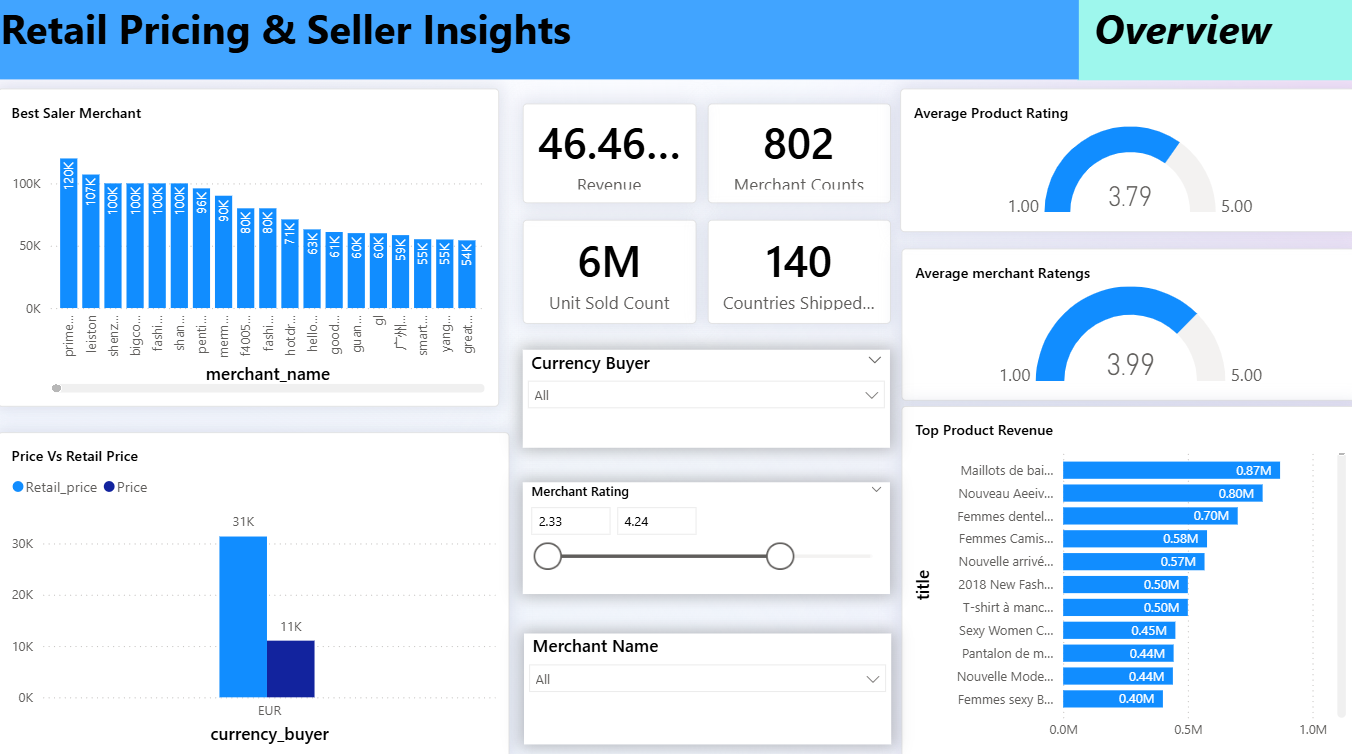

This screenshot's page, from the dashboard's own definition file:
{"tool":"powerbi","page":{"name":"Business Performance Summary","canvas":[1280,720],"ordinal":1},"visuals":[{"type":"card","fields":{"Values":["Count(insights_cleaned.merchant_id)"]},"box":[672.9,100,170,92.9],"z":0},{"type":"card","fields":{"Values":["Sum(insights_cleaned.total_units_sold)"]},"box":[501.4,208.6,161.4,97.1],"z":1000},{"type":"card","fields":{"Values":["Max(products_cleaned.countries_shipped_to)"]},"box":[672.9,208.6,170,97.1],"z":2000},{"type":"clusteredColumnChart","title":"Price Vs Retail Price","fields":{"Y":["Sum(products_cleaned.retail_price)","Sum(products_cleaned.price)"],"Category":["products_cleaned.currency_buyer"]},"box":[12.8,405.4,476.2,303.3],"z":3000},{"type":"card","fields":{"Values":["Sum(products_cleaned.Revenue)"]},"box":[501.4,100,161.4,92.9],"z":4000},{"type":"gauge","title":"Average merchant Ratengs","fields":{"Y":["Avg(insights_cleaned.rating)"],"MinValue":["insights_cleaned.Rating Min"],"MaxValue":["insights_cleaned.Rating Max"]},"box":[853.2,235.3,426.6,141.7],"z":5000},{"type":"clusteredColumnChart","title":"Best Saler Merchant","fields":{"Category":["products_cleaned.merchant_name"],"Y":["Sum(insights_cleaned.total_units_sold)"]},"box":[12.8,86.5,466.3,296.2],"z":6000},{"type":"gauge","title":"Average Product Rating","fields":{"Y":["Avg(products_cleaned.rating)"],"MaxValue":["insights_cleaned.Rating Max"],"MinValue":["insights_cleaned.Rating Min"]},"box":[851.8,86.5,428,133.2],"z":7000},{"type":"barChart","title":"Top Product Revenue","fields":{"Category":["products_cleaned.title"],"Y":["Sum(products_cleaned.Revenue)"]},"box":[853.2,381.3,426.6,327.4],"z":8000},{"type":"slicer","fields":{"Values":["products_cleaned.merchant_name"]},"box":[502.9,592.9,341.4,102.9],"z":9000},{"type":"slicer","fields":{"Values":["insights_cleaned.rating"]},"box":[501.4,452.9,341.4,104.3],"z":10000},{"type":"slicer","fields":{"Values":["products_cleaned.currency_buyer"]},"box":[501.4,328.6,341.4,91.4],"z":11000},{"type":"textbox","box":[1017.1,0,262.9,78.6],"z":13000},{"type":"textbox","box":[10,0,1007.8,77.8],"z":14000}]}

Visuals, with their boxes in screenshot pixels (x1, y1, x2, y2), scaled from the page's 1280x720 canvas onto the 1352x754 screenshot:
card - Count(insights_cleaned.merchant_id): box(711, 105, 890, 202)
card - Sum(insights_cleaned.total_units_sold): box(530, 218, 700, 320)
card - Max(products_cleaned.countries_shipped_to): box(711, 218, 890, 320)
"Price Vs Retail Price" clusteredColumnChart: box(14, 425, 517, 742)
card - Sum(products_cleaned.Revenue): box(530, 105, 700, 202)
"Average merchant Ratengs" gauge: box(901, 246, 1351, 395)
"Best Saler Merchant" clusteredColumnChart: box(14, 91, 506, 401)
"Average Product Rating" gauge: box(900, 91, 1351, 230)
"Top Product Revenue" barChart: box(901, 399, 1351, 742)
slicer - products_cleaned.merchant_name: box(531, 621, 892, 729)
slicer - insights_cleaned.rating: box(530, 474, 890, 584)
slicer - products_cleaned.currency_buyer: box(530, 344, 890, 440)
textbox: box(1074, 0, 1351, 82)
textbox: box(11, 0, 1075, 81)
